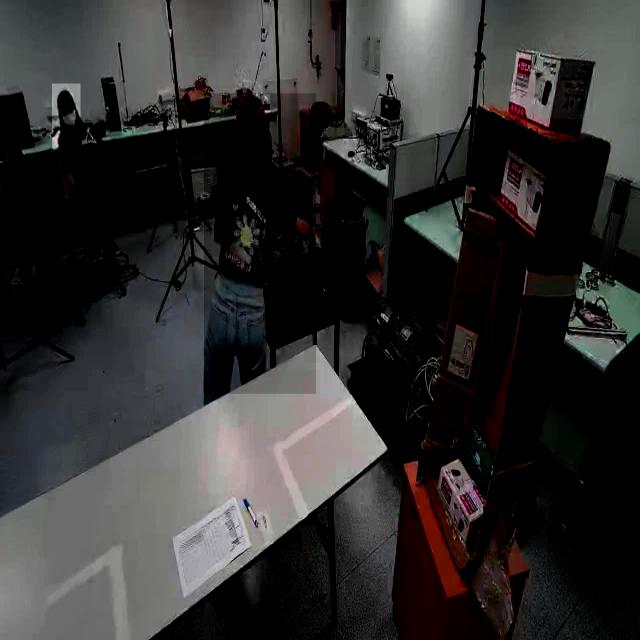face_mask: (61, 110, 77, 140)
hand_glove: (308, 224, 324, 258)
hand_noglove: (2, 164, 16, 188)
head_nohelmet: (235, 94, 271, 135), (57, 88, 73, 104)
person: (204, 93, 316, 395), (51, 84, 80, 214)
